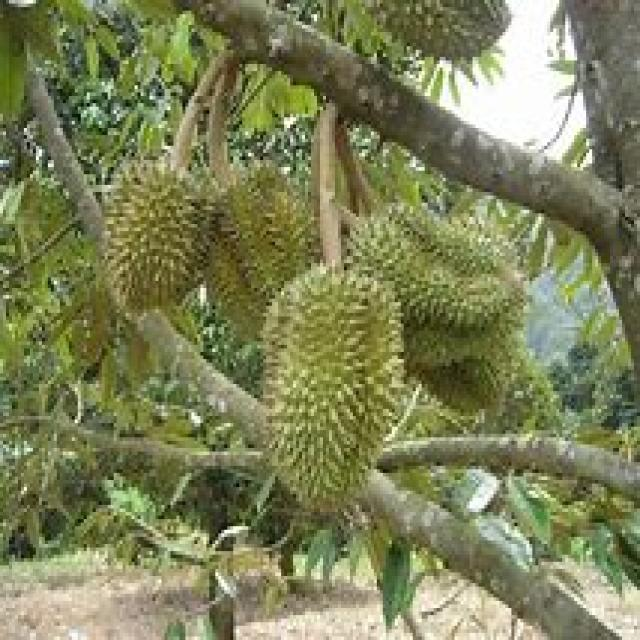immature: (349, 207, 525, 409), (262, 266, 404, 510), (206, 165, 312, 340), (106, 166, 215, 311)
